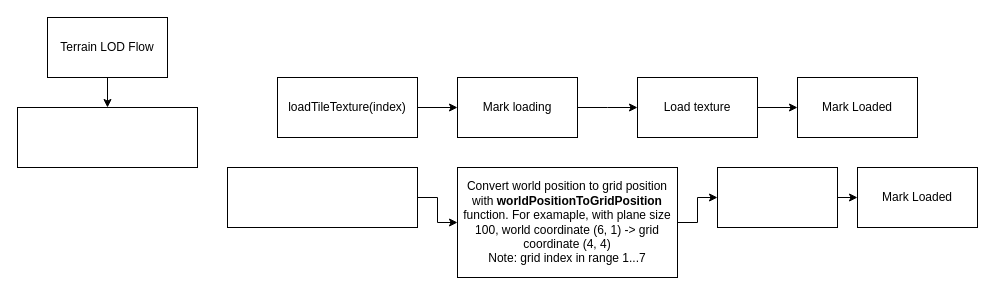
The diagram is 995 pixels wide and 295 high, and some of its shapes have lost their labels. The centre of each missing label's shape, as x and y in pixels:
"Check if same position" belongs at point 777,197.
"Load low resolution terrain" belongs at point 107,137.
"updateTiles(cameraX, cameraY)" belongs at point 322,197.
